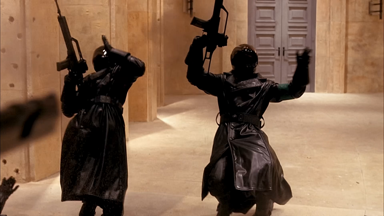firearm: (50, 1, 89, 95), (187, 1, 233, 77)
